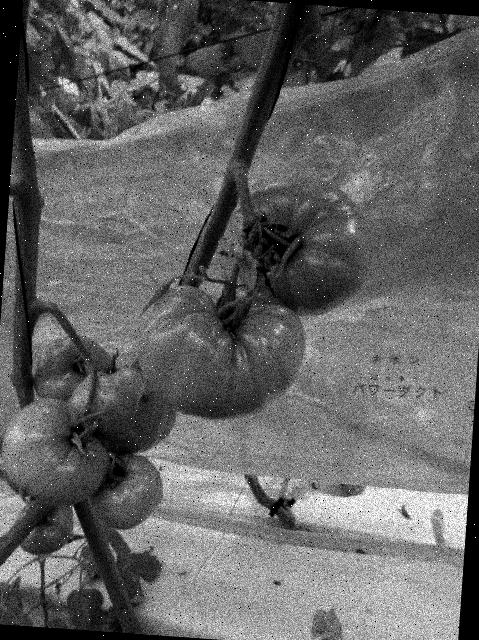b_green: (132, 278, 308, 426), (0, 395, 116, 509), (85, 450, 165, 532), (31, 331, 116, 405)
b_half_ripened: (223, 172, 378, 321), (64, 360, 180, 458), (13, 497, 74, 557)
